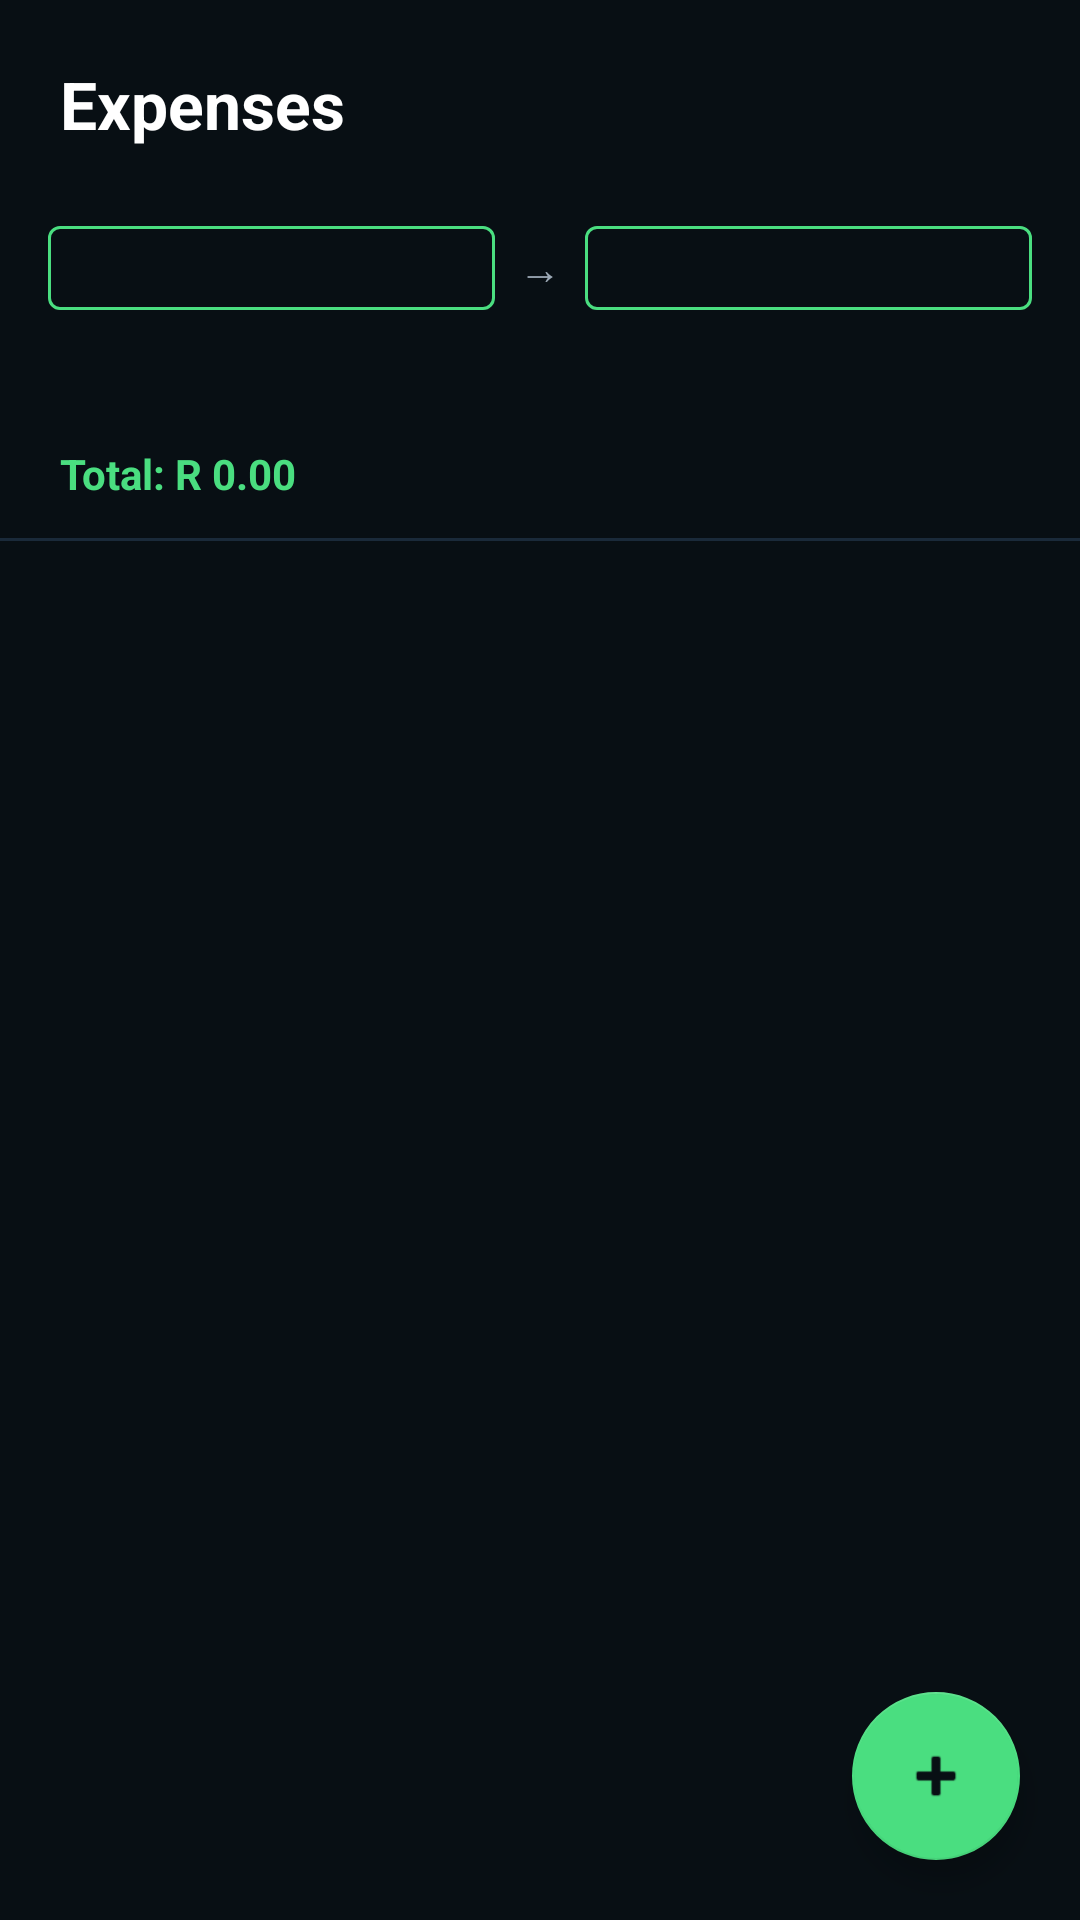

Named icons in this screenshot (1080 x 1920) and their bounding boxes, (x1=x1, y1=y1, x2=x2, y2=y2):
Add expense: (x1=852, y1=1692, x2=1020, y2=1860)
